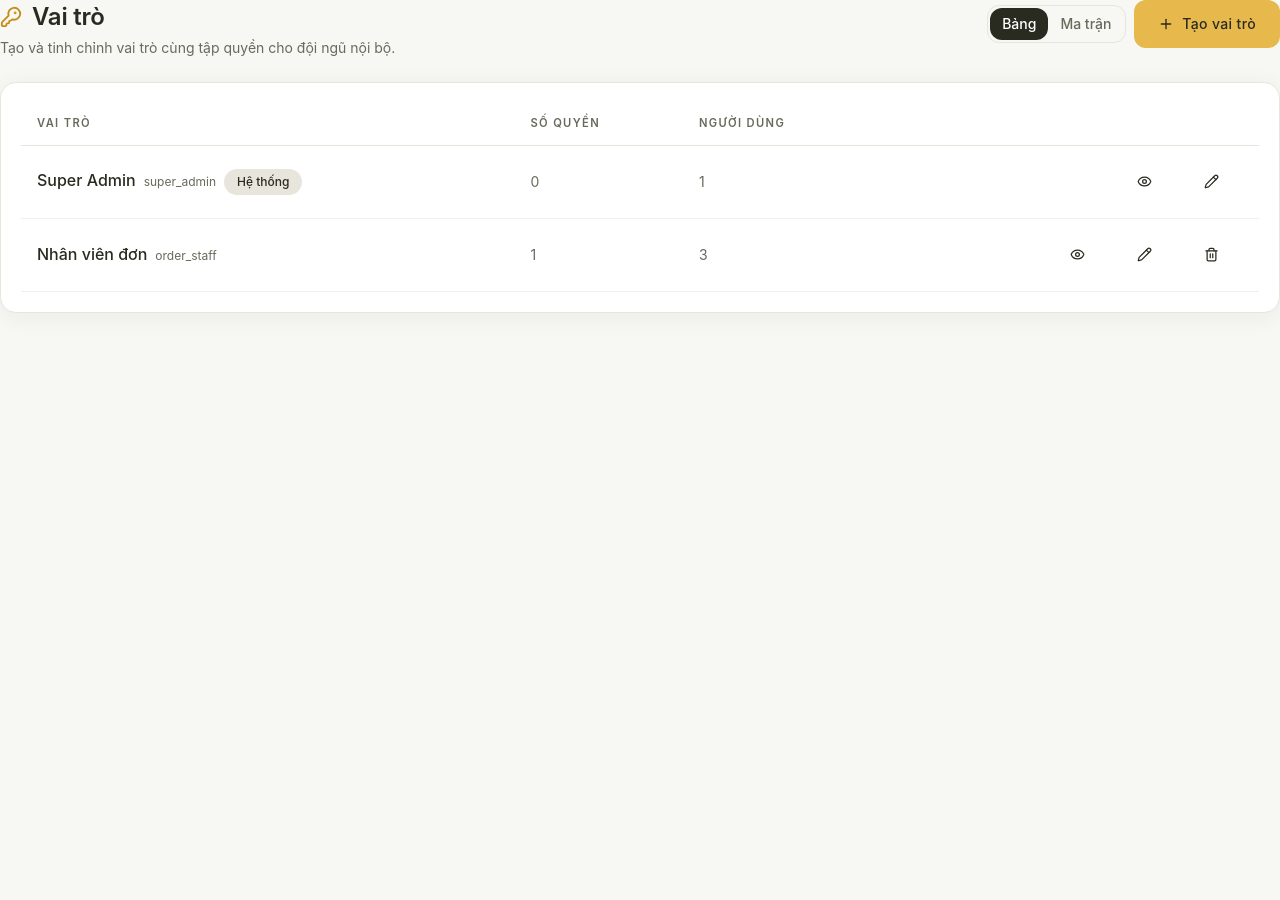
AdminRolesPage › nút Sửa trong ma trận mở RoleFormDialog cho đúng role
Click the button "Ma trận": (1086, 24) [1048,8,1123,40]
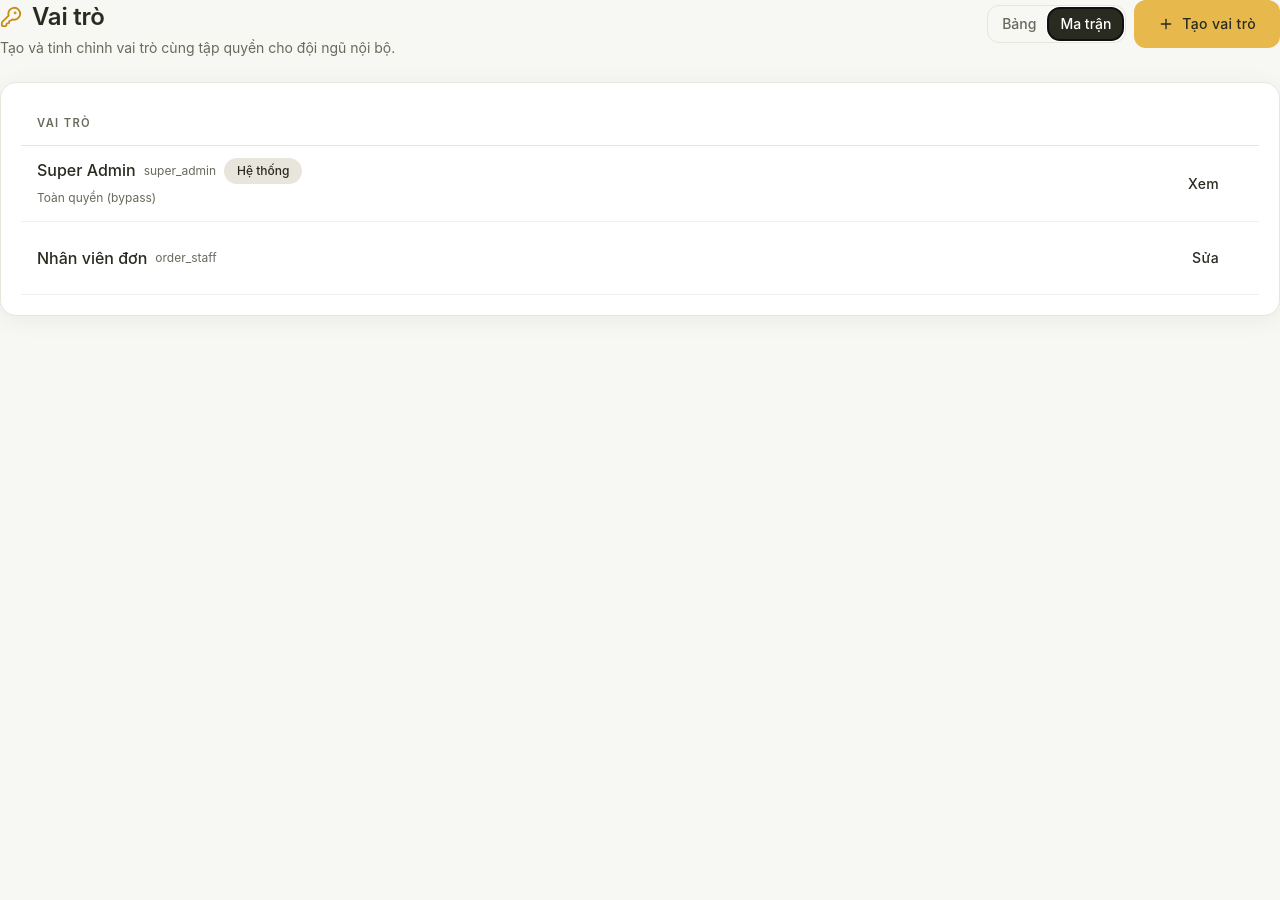
order_staff không locked → nút "Sửa vai trò Nhân viên đơn"
Click the button with aria-label "Sửa vai trò Nhân viên đơn": (1206, 258) [1168,234,1243,282]
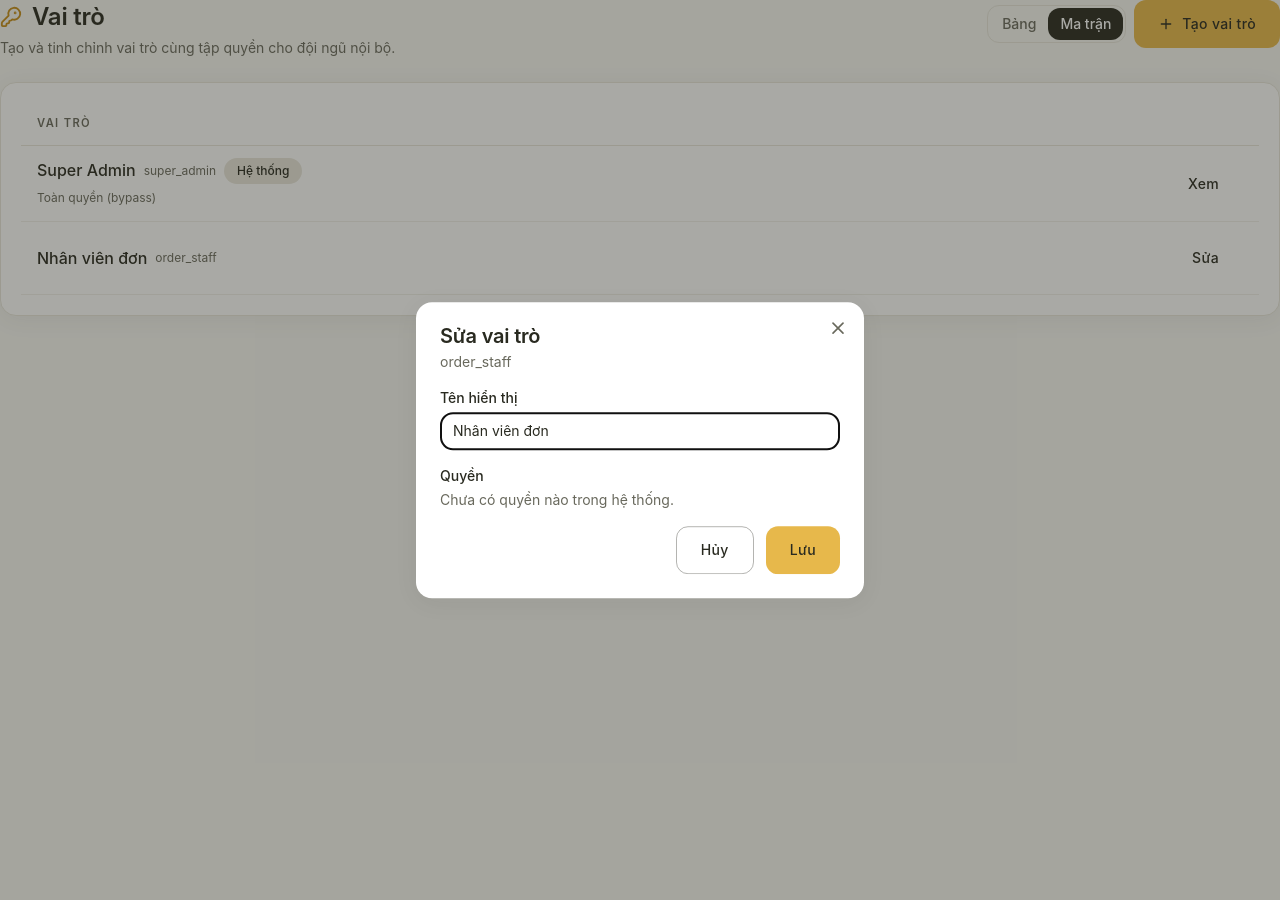
expect the heading "Sửa vai trò" is shown: met, box [440,324,540,348]
